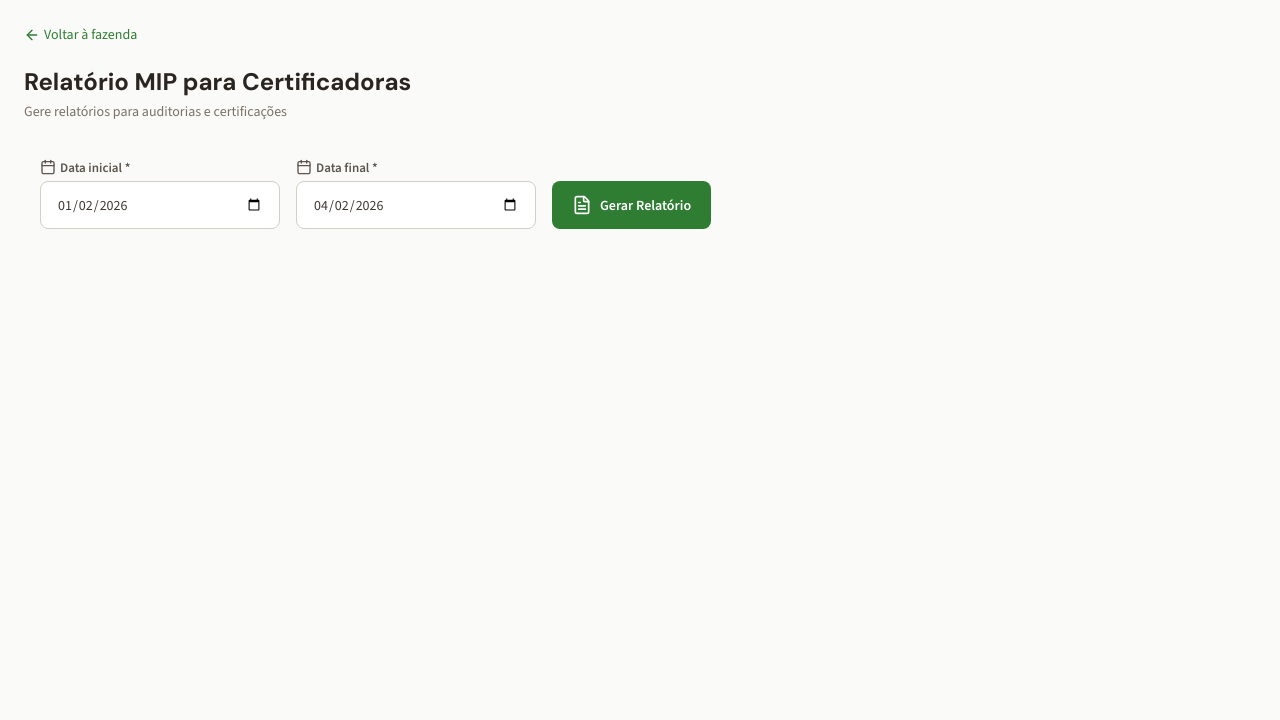
Test: MonitoringReportPage › should show empty state when report has no data
This screenshot has width=1280, height=720.
Click the button "Gerar Relatório": x=632, y=205 [552,181,711,229]
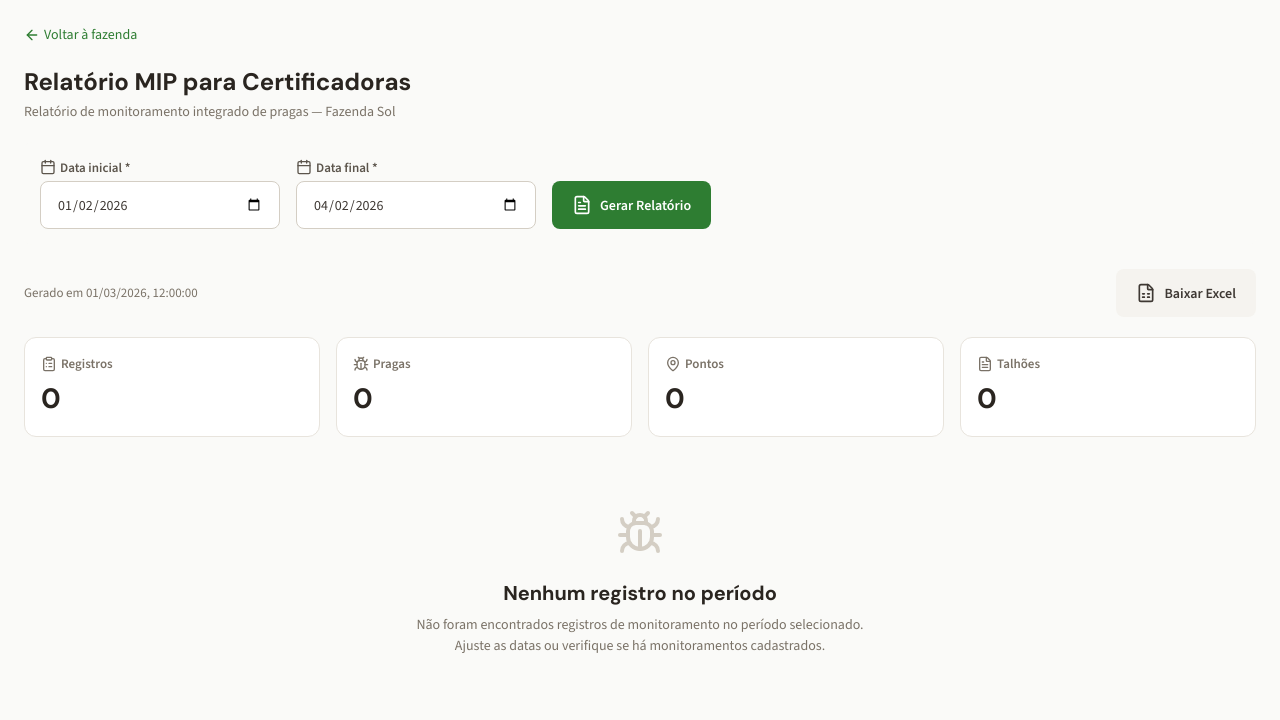
Expected: the heading "Nenhum registro no período" is shown, [503,580,777,606]
